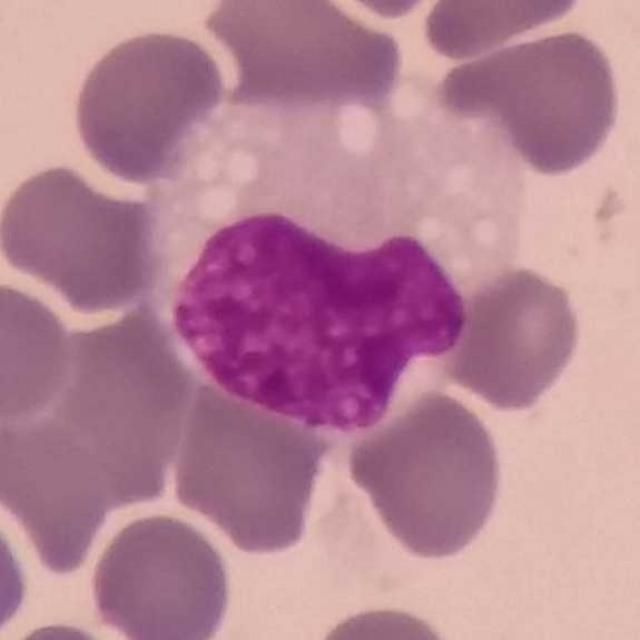mono: (141, 83, 542, 440)
